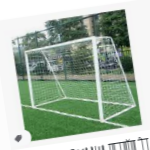goals: (23, 34, 136, 122)
